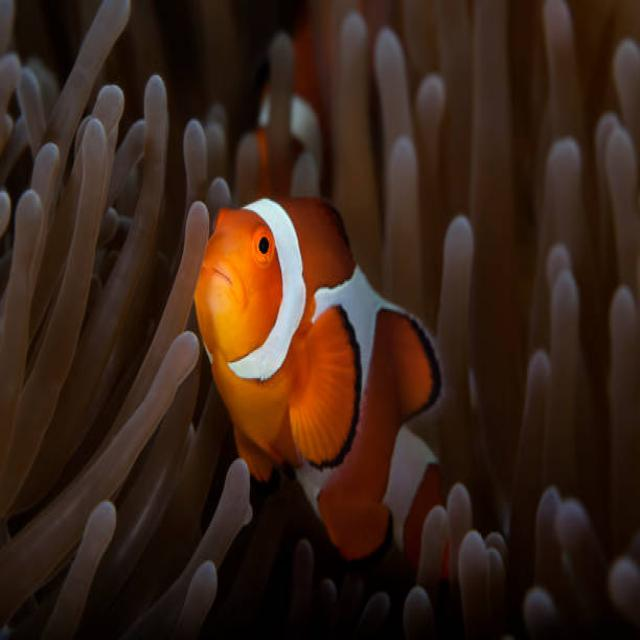ClownFish: (192, 198, 457, 564)
